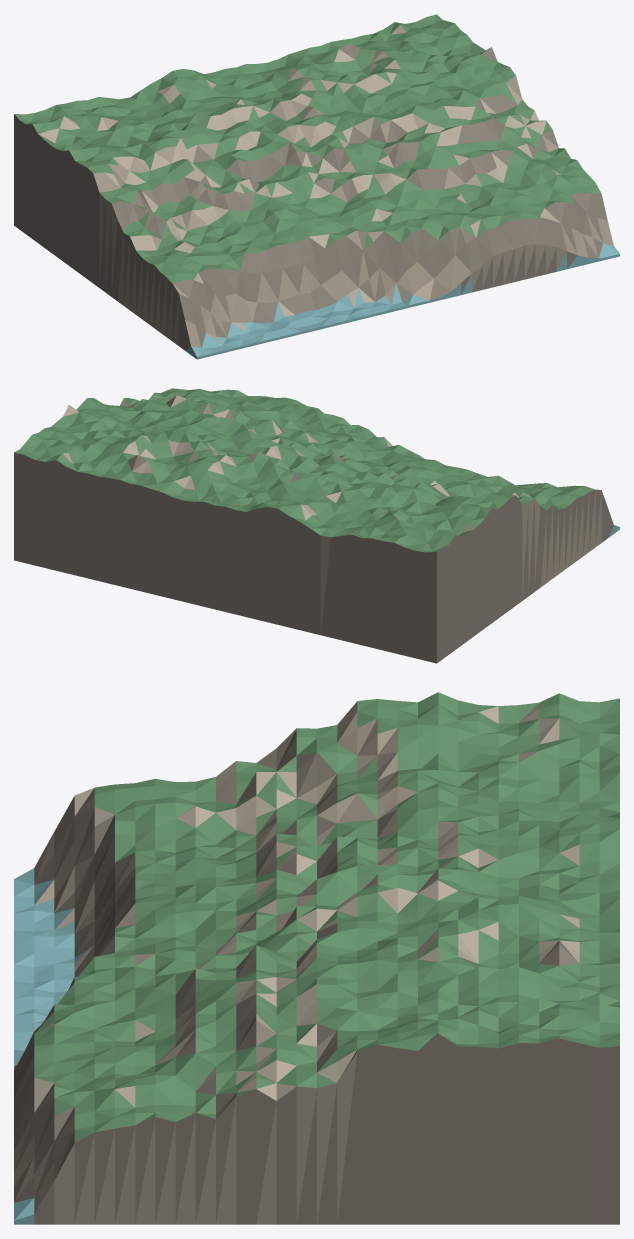
Rendered from TERRAIN_12.obj.
3 renders of one model, top to bottom at view 1: azimuth 30°, elevation 25°; view 2: azimuth 150°, elevation 25°; view 3: azimuth 270°, elevation 25°, orthographic. The views are drawn at different scales.
Visible parts, largest first — view 1: TERRAIN_12; view 2: TERRAIN_12; view 3: TERRAIN_12.
Boxes of the visible parts, x1=… form: TERRAIN_12: x1=14, y1=14, x2=619, y2=359; TERRAIN_12: x1=14, y1=388, x2=619, y2=663; TERRAIN_12: x1=14, y1=692, x2=619, y2=1224.
Size of the model in its own units: 72 by 19.21 by 54.
